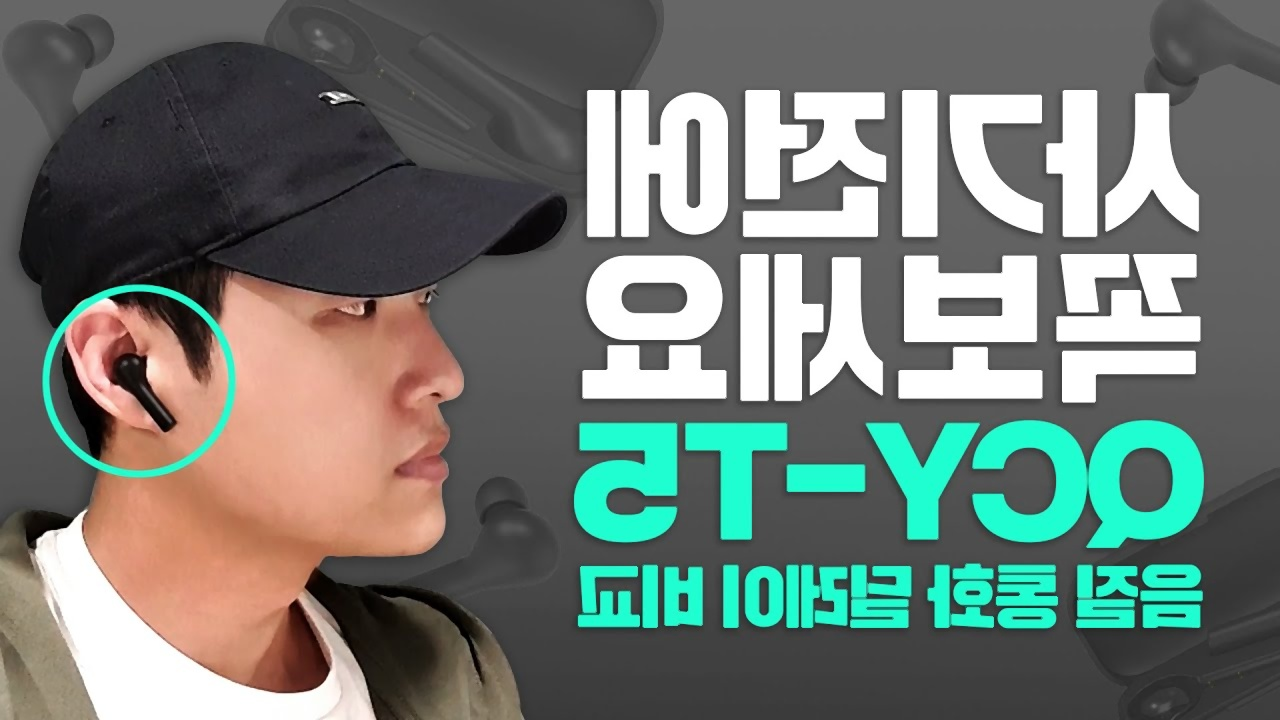earphone: (64, 295, 178, 433)
